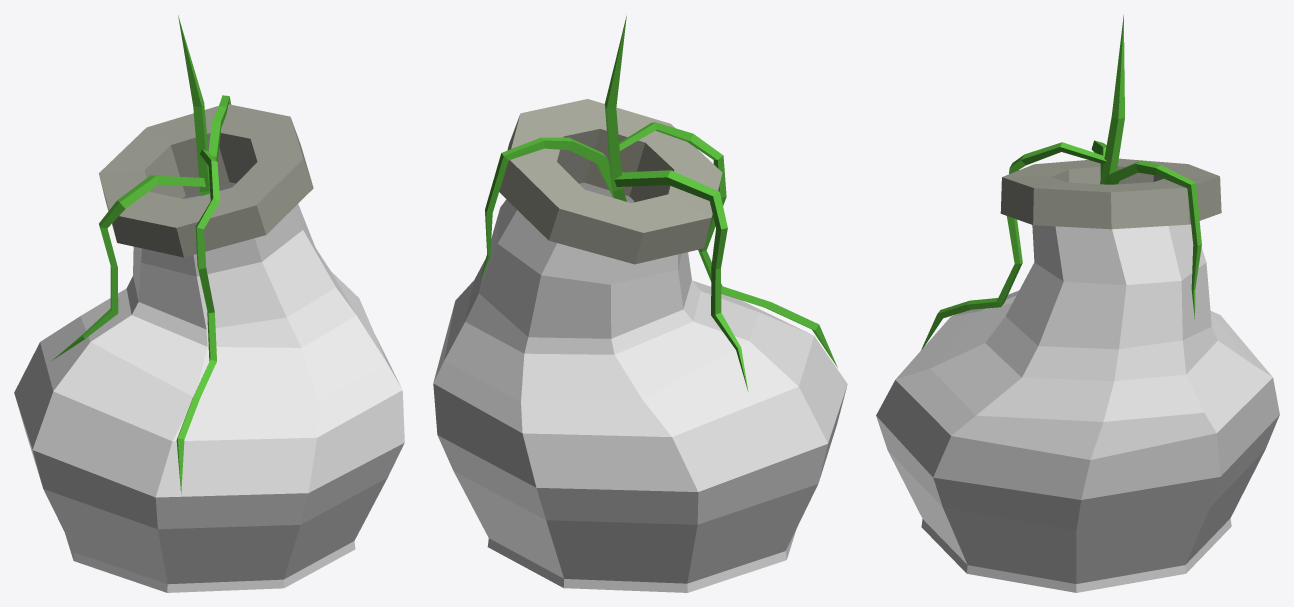
Rendered from 种试管2.fbx.
The picture shows the model from 3 angles, left to right: view 1: azimuth 30°, elevation 25°; view 2: azimuth 150°, elevation 25°; view 3: azimuth 270°, elevation 25°; orthographic projection. The views are drawn at different scales.
Visible parts, largest first — view 1: 柱体.018; view 2: 柱体.018; view 3: 柱体.018.
Boxes of the visible parts, x1,y1,x2,y2 form: 柱体.018: [14, 15, 404, 592]; 柱体.018: [433, 16, 847, 592]; 柱体.018: [876, 15, 1279, 592].
Bounding box in the file's own units: 120 × 164 × 117.
